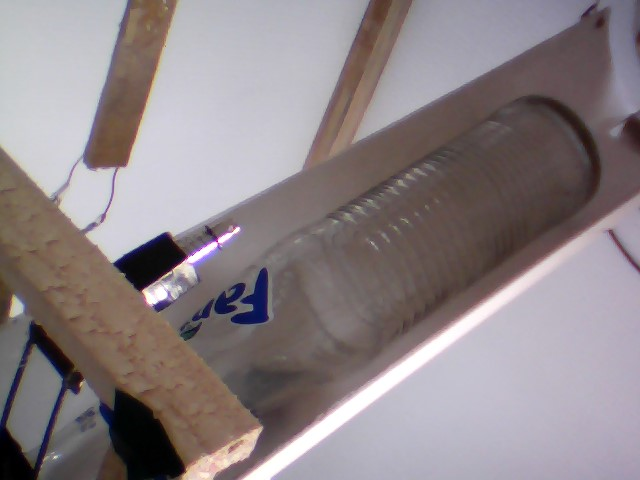vidrio: (165, 89, 606, 414)
